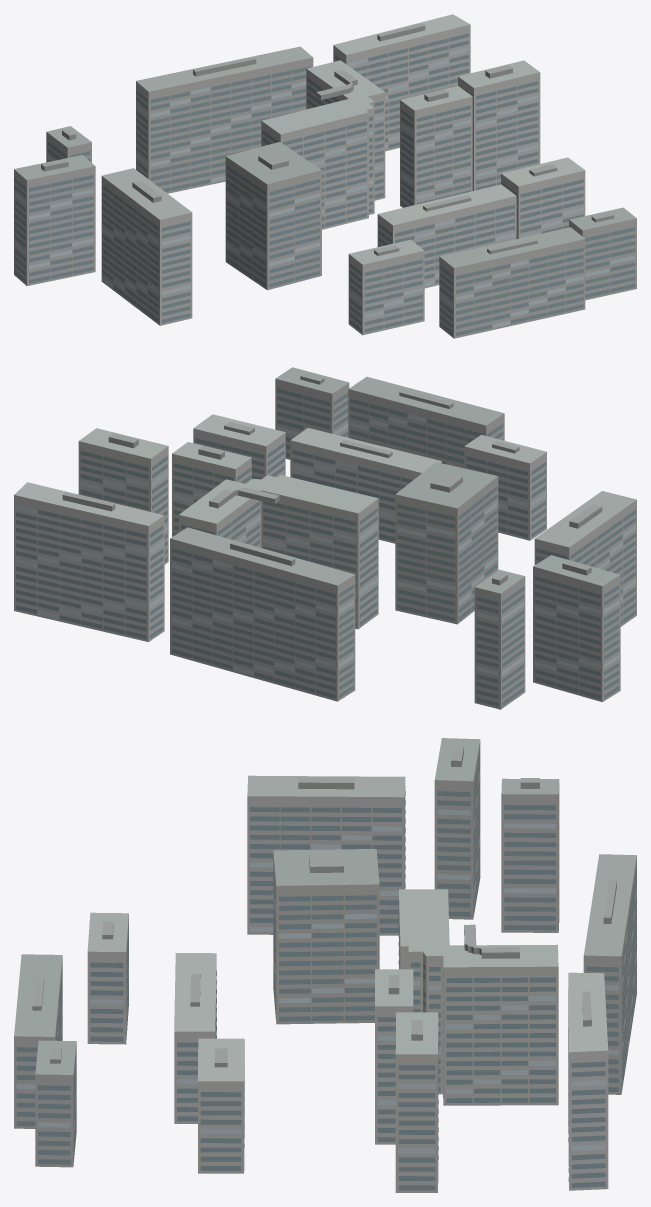
File: apt-a12104007.glb
3 views of the same model, one above another, from view 1: azimuth 30°, elevation 25°; view 2: azimuth 150°, elevation 25°; view 3: azimuth 270°, elevation 25° (orthographic). The views are drawn at different scales.
Parts seen in each view (by area): view 1: apt-a12104007; view 2: apt-a12104007; view 3: apt-a12104007.
Boxes of the visible parts, x1,y1,x2,y2 form: apt-a12104007: (14, 14, 636, 338); apt-a12104007: (14, 367, 636, 709); apt-a12104007: (14, 738, 636, 1192).
Bounding box in the file's own units: 224 × 47.81 × 187.
